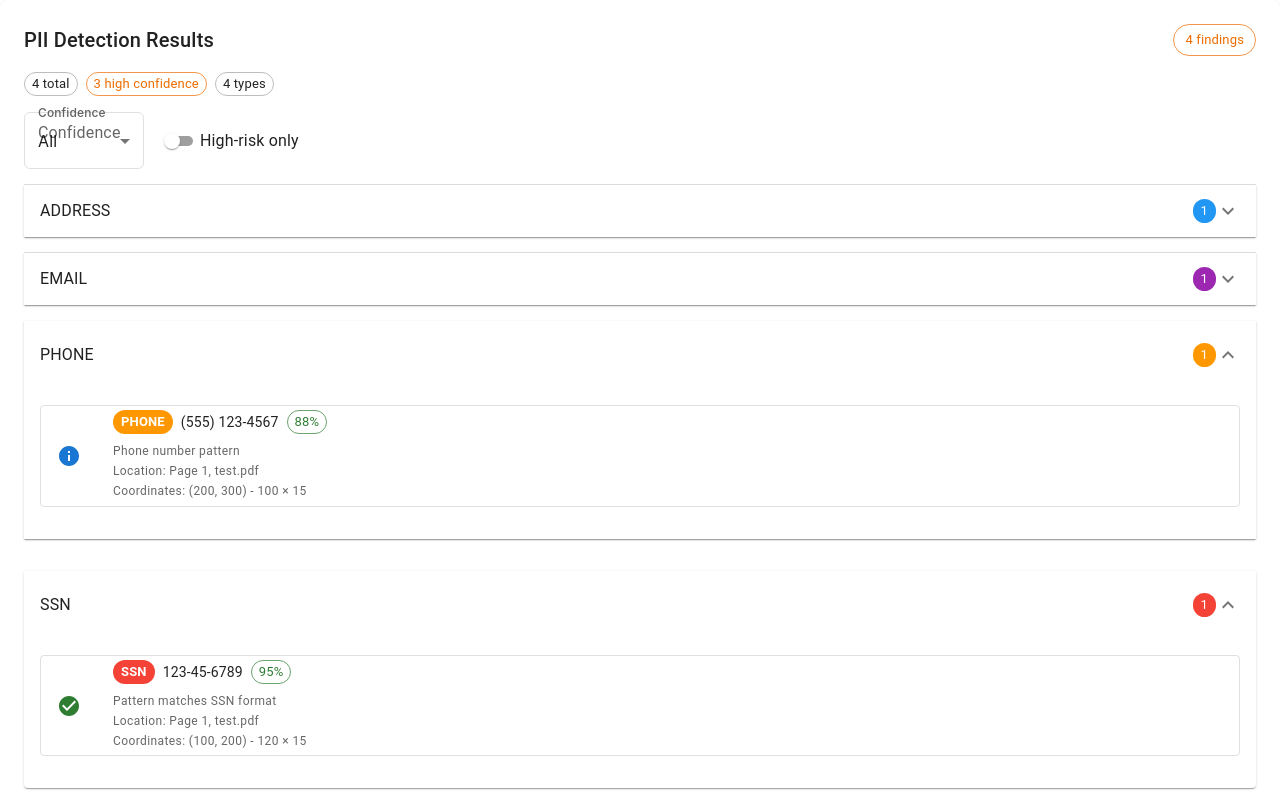
PIIFindings › should show no findings message when filters exclude all results
Expected: the text "4 findings" is shown, top-left (1185, 32), bottom-right (1244, 47)
Apply filter that excludes all findings
Press the mouse on the dropdown named "Confidence" at [48, 140], box top-left (38, 130), bottom-right (57, 150)
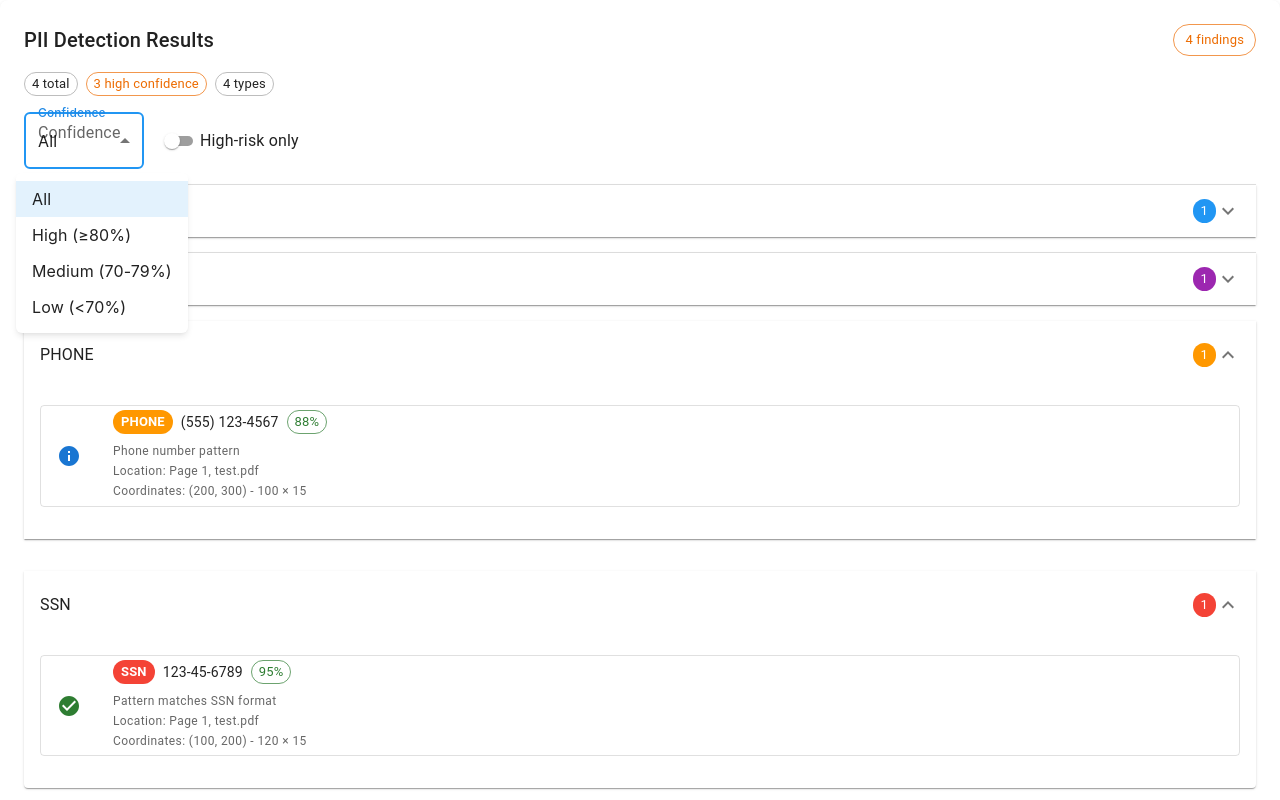
Click the option "Low (<70%)" at [79, 307], box top-left (32, 297), bottom-right (126, 317)
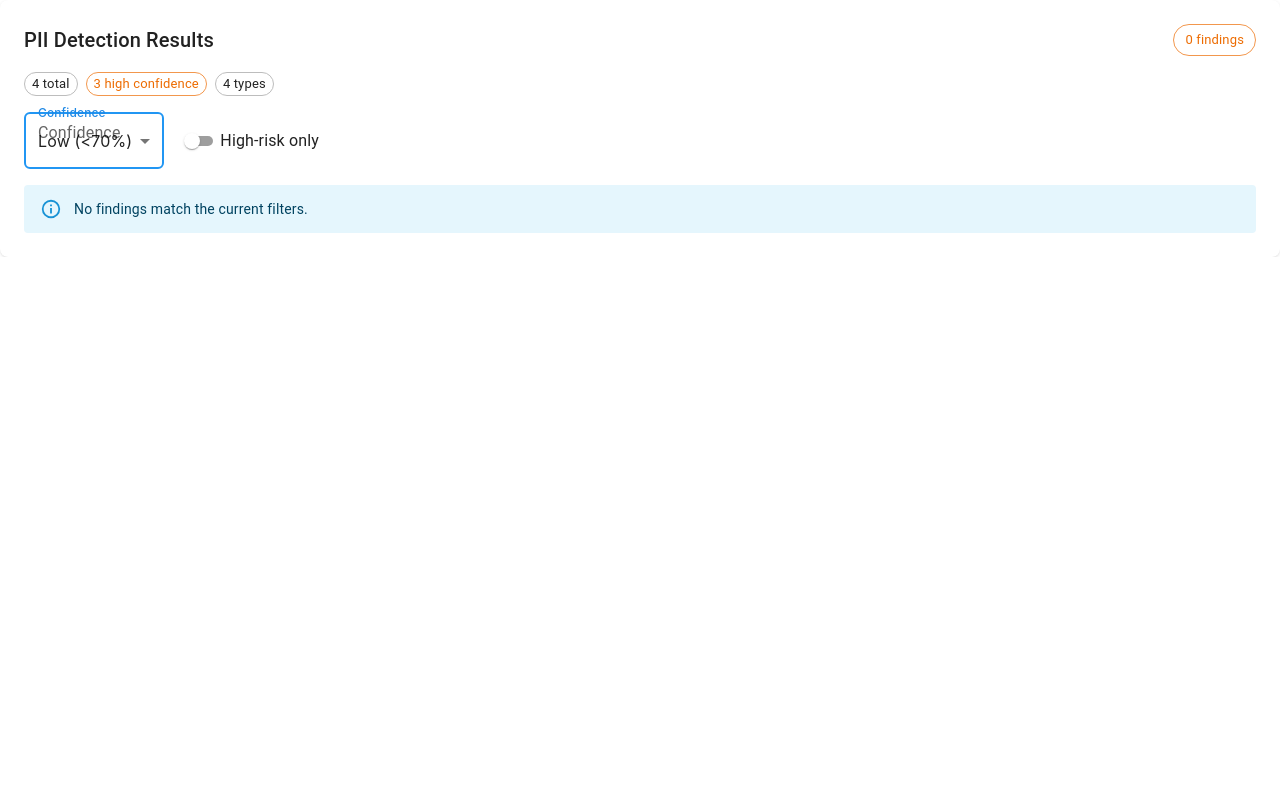
Now the text "No findings match the current filters." is shown, box top-left (74, 201), bottom-right (308, 217)
